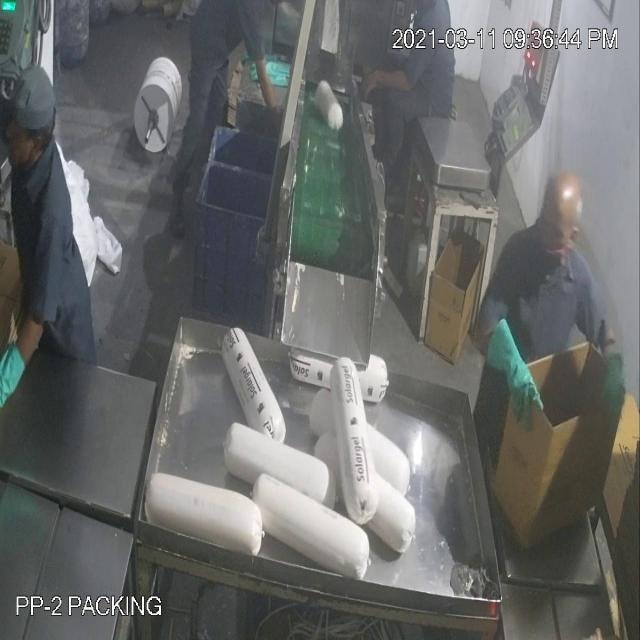No_Gloves: (34, 55, 616, 392)
